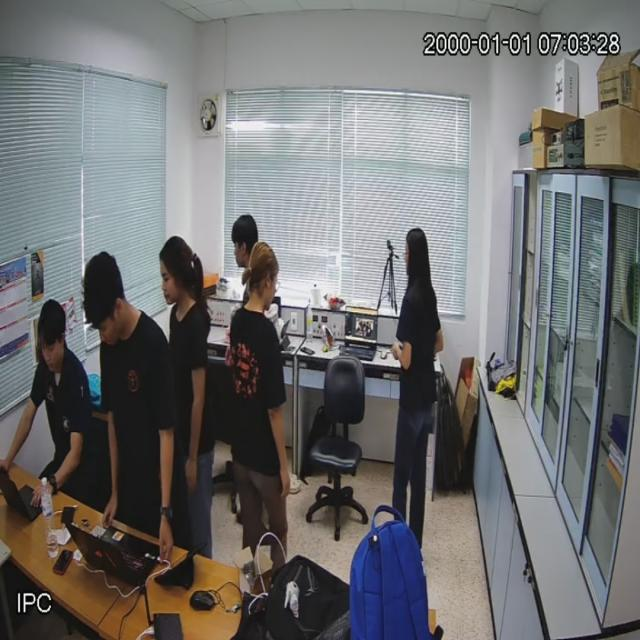normal: (88, 253, 173, 543), (233, 245, 290, 558), (14, 300, 95, 506), (162, 237, 212, 558), (396, 228, 442, 538)
